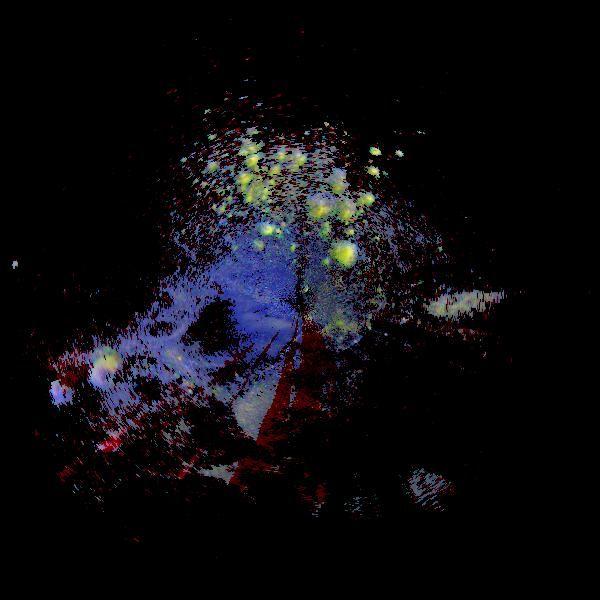roost: (92, 358, 125, 391), (52, 381, 70, 399), (261, 223, 276, 238)
